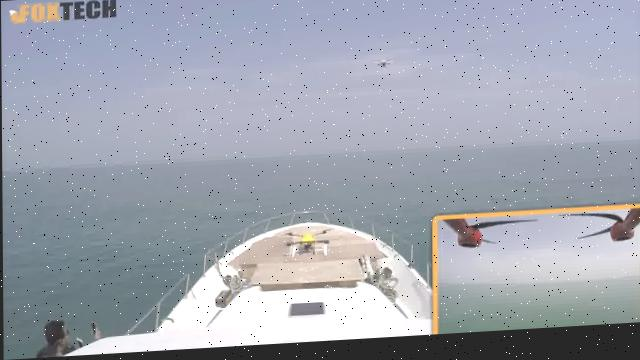drone: (275, 217, 340, 263), (365, 55, 396, 82)
